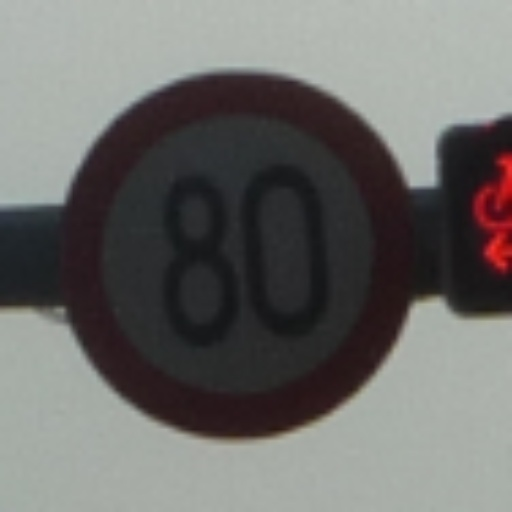Speed limit: (59, 106, 393, 408)
